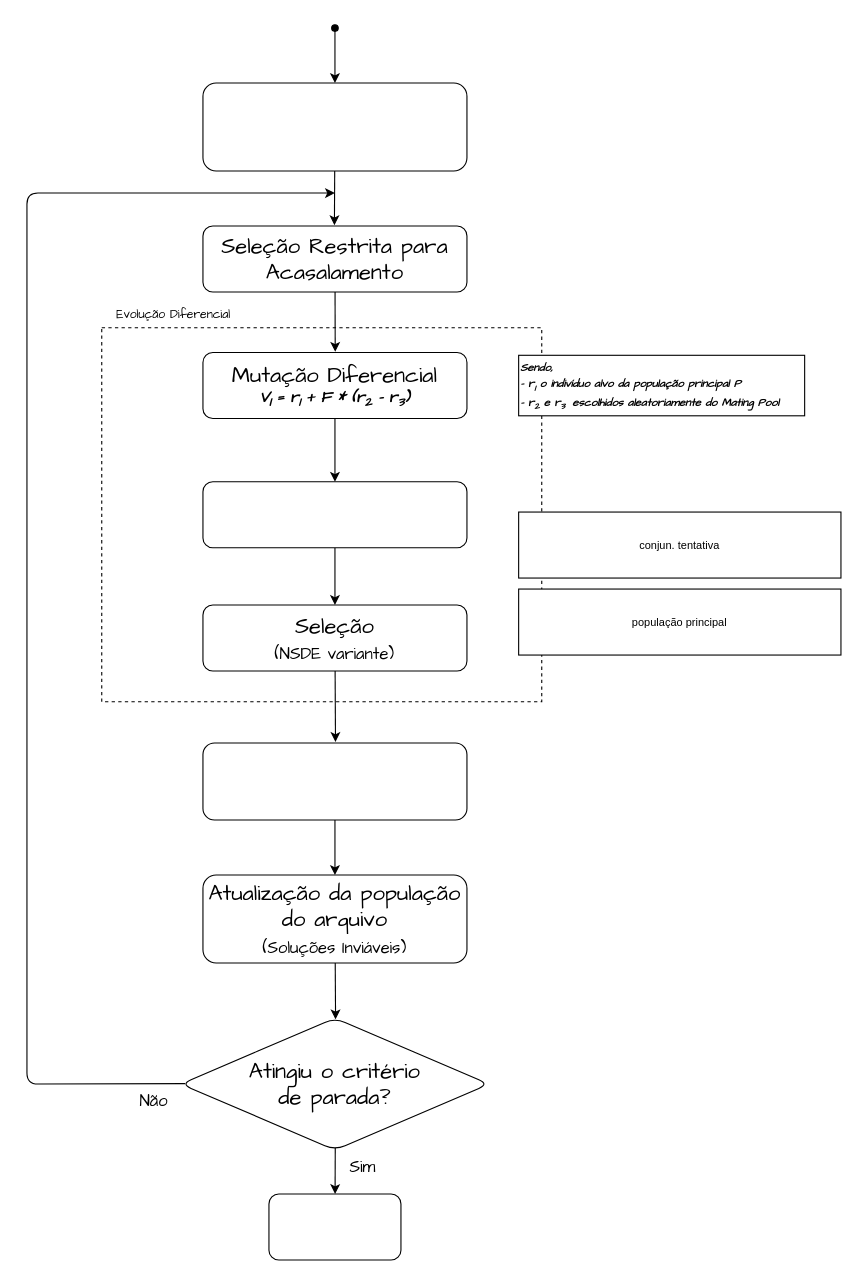
Some shapes in this 860 by 1279 pixel diagram are drawn without their labels. Here are the shapes that lost their labels. From the top down, the centre of each, then its label:
[334,126]: Inicialização da população principal e da da população do arquivo
[334,514]: Cruzamento
[334,781]: Ordenamento não-dominado (Soluções Inviáveis)
[334,1226]: Saída
